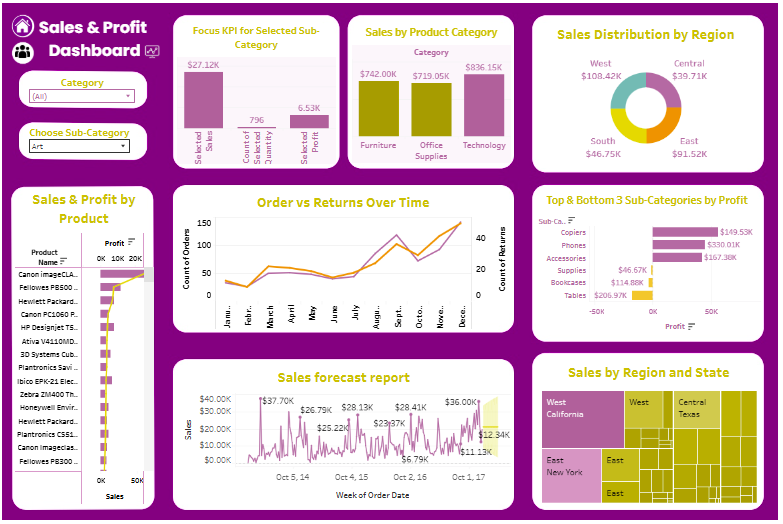

This screenshot's page, from the dashboard's own definition file:
{"tool":"tableau","page":{"name":"Sales & Profit Dashboard","canvas":[1200,800],"ordinal":1},"visuals":[{"type":"image","param":"Image/dash2.jpg","box":[8,8,1184,784]},{"type":"image","param":"Image/uyt-removebg-preview.png","box":[13,20,73,55]},{"type":"text","box":[62,24,190,86]},{"type":"dashboard-object","box":[27,31,44,32]},{"type":"worksheet","title":"Use Parameter for sub-category viz","mark":"Automatic","box":[280,37,239,217]},{"type":"worksheet","title":"Sales by Product Category","mark":"Automatic","rows":["Sales"],"cols":["Category"],"box":[543,38,238,214]},{"type":"worksheet","title":"Donut Chart","mark":"Pie","cols":["Calculation_1055548461703760","Calculation_1055548461703760"],"box":[824,39,320,219]},{"type":"image","param":"Image/uyt-removebg-preview.png","box":[15,61,69,54]},{"type":"image","param":"Image/yui-removebg-preview.png","box":[231,71,25,29]},{"type":"dashboard-object","box":[34,74,30,23]},{"type":"filter","title":"Sales by Product Category","param":"[federated.1b8n5og0bip4gc199cygs0b67gcq].[none:Category:nk]","box":[58,120,161,45]},{"type":"parameter","param":"[Parameters].[Parameter 2]","box":[57,195,154,48]},{"type":"worksheet","title":"Sales and Profit by Product Name","mark":"Bar","rows":["Product Name"],"cols":["Sales","Profit"],"box":[38,287,208,479]},{"type":"worksheet","title":"Use sets to show top and bottom Profit in one insight (2)","mark":"Automatic","rows":["Sub-Category"],"cols":["Profit"],"box":[819,289,337,222]},{"type":"worksheet","title":"line viz between Orders & Returns","mark":"Automatic","rows":["Orders_FD4370BE63F149CF8FD8FDAD1BAA8EA6","Returns_002560C8E5A84FA5865CB18BFBFC9E80"],"cols":["Order Date"],"box":[278,291,505,213]},{"type":"worksheet","title":"Sales by Region and State","mark":"Automatic","box":[822,546,333,222]},{"type":"worksheet","title":"Sales forecast report","mark":"Line","rows":["Sales"],"cols":["Order Date"],"box":[281,554,500,210]}]}

Visuals, with their boxes in screenshot pixels (x1, y1, x2, y2), scaled from the page's 1200x800 canvas onto the 783x524 screenshot:
image: Rect(5, 5, 778, 519)
image: Rect(8, 13, 56, 49)
text: Rect(40, 16, 164, 72)
dashboard-object: Rect(18, 20, 46, 41)
"Use Parameter for sub-category viz" worksheet: Rect(183, 24, 339, 166)
"Sales by Product Category" worksheet: Rect(354, 25, 510, 165)
"Donut Chart" worksheet (Pie marks): Rect(538, 26, 746, 169)
image: Rect(10, 40, 55, 75)
image: Rect(151, 47, 167, 66)
dashboard-object: Rect(22, 48, 42, 64)
"Sales by Product Category" filter: Rect(38, 79, 143, 108)
parameter: Rect(37, 128, 138, 159)
"Sales and Profit by Product Name" worksheet (Bar marks): Rect(25, 188, 161, 502)
"Use sets to show top and bottom Profit in one insight (2)" worksheet: Rect(534, 189, 754, 335)
"line viz between Orders & Returns" worksheet: Rect(181, 191, 511, 330)
"Sales by Region and State" worksheet: Rect(536, 358, 754, 503)
"Sales forecast report" worksheet (Line marks): Rect(183, 363, 510, 500)
